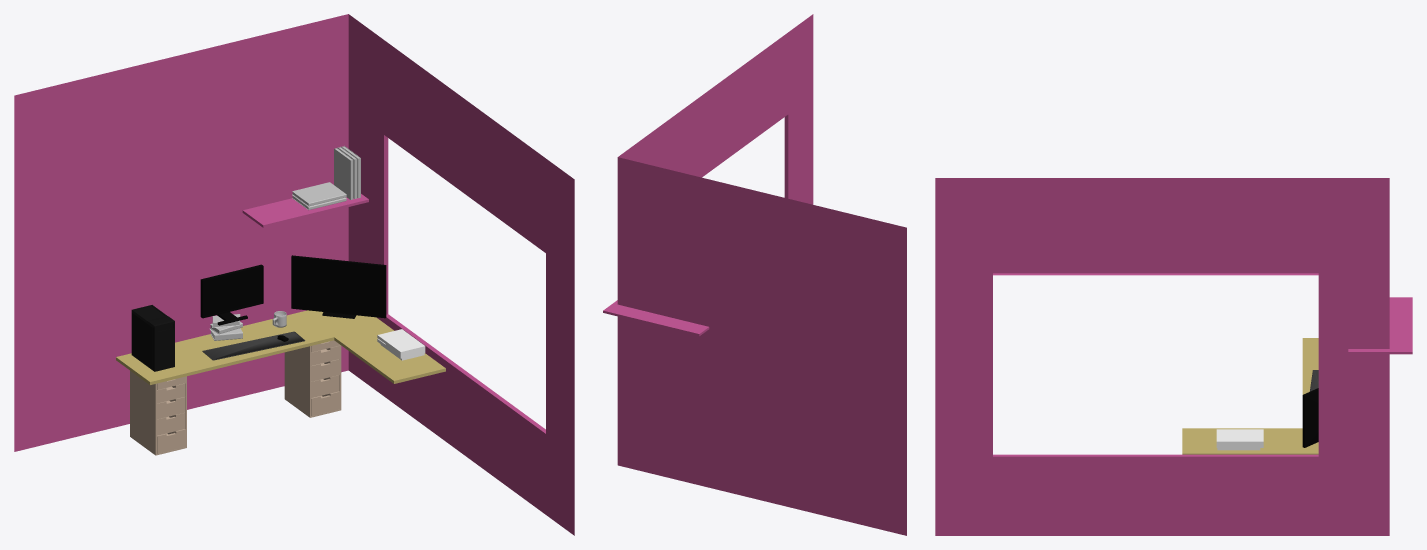
Rendered from room.obj.
3 views of the same model, side by side, from view 1: azimuth 30°, elevation 25°; view 2: azimuth 150°, elevation 25°; view 3: azimuth 270°, elevation 25° (orthographic). The views are drawn at different scales.
Parts seen in each view (by area): view 1: Wall_Plane, Table_Cube.001, TV_Cube.012, DrawersL_Cube.002, DrawerR_Cube.007, Computer_Monitor_Cube.011, Computer_Cube.005, DnD_Books_Cube.015, MouseMat_Cube.004, Cube_Cube.016; view 2: Wall_Plane; view 3: Wall_Plane, Table_Cube.001, Cube_Cube.016, TV_Cube.012.
Part boxes in pixels (x1,y1,x2,y2): Wall_Plane: (14, 14, 574, 535); Table_Cube.001: (116, 310, 445, 384); TV_Cube.012: (291, 255, 386, 318); DrawersL_Cube.002: (130, 371, 186, 455); DrawerR_Cube.007: (284, 340, 341, 417); Computer_Monitor_Cube.011: (200, 264, 263, 325); Computer_Cube.005: (131, 305, 174, 371); DnD_Books_Cube.015: (292, 146, 360, 210); MouseMat_Cube.004: (202, 331, 305, 360); Cube_Cube.016: (377, 329, 425, 360); Wall_Plane: (603, 14, 906, 535); Wall_Plane: (935, 178, 1412, 535); Table_Cube.001: (1182, 338, 1318, 454); Cube_Cube.016: (1216, 429, 1263, 450); TV_Cube.012: (1302, 388, 1318, 447).
Bounding box in the file's own units: 4.59 × 4.6 × 5.56.
